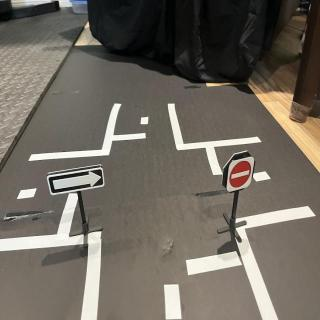sign_noentry: (227, 156, 257, 196)
sign_oneway_right: (47, 163, 107, 198)
